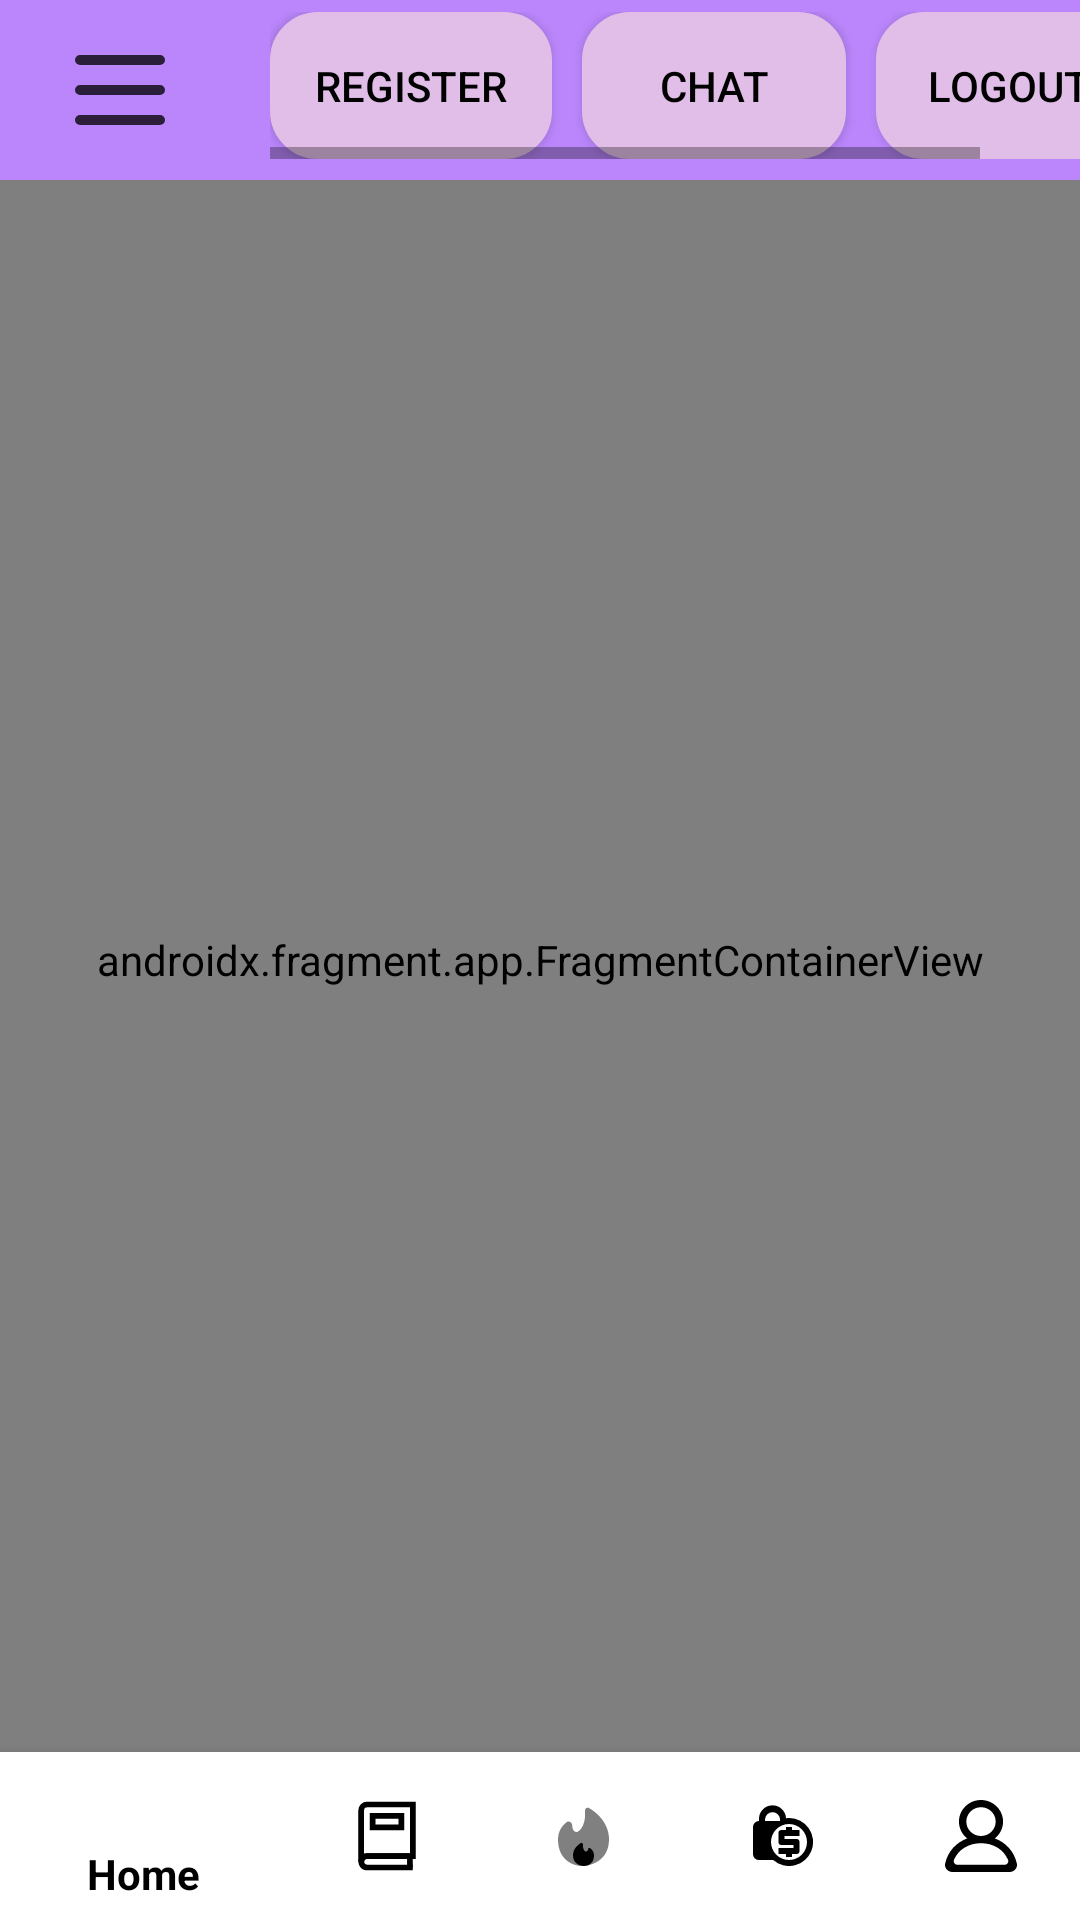

Icon bounding boxes for this 1080×1920 phone screenshot, format region(x1, y1, x2, y2):
humburger: region(75, 55, 165, 125)
